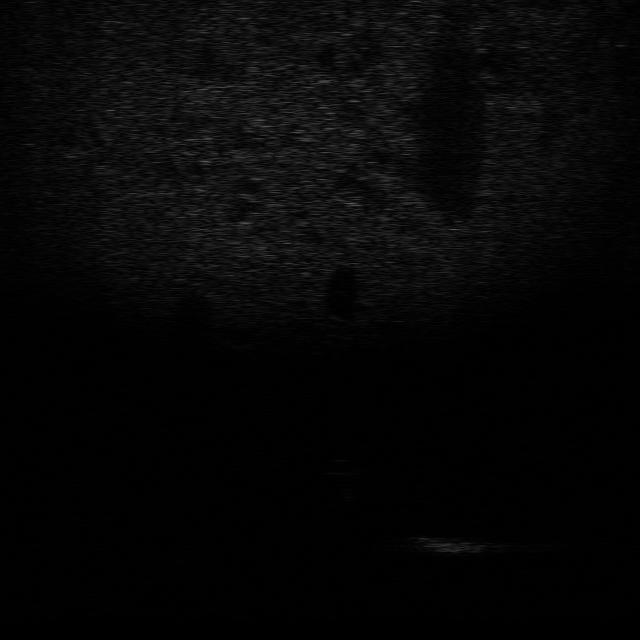ball: (320, 454, 364, 480)
metal bucket: (398, 530, 492, 558)
tyre: (145, 550, 200, 580)
